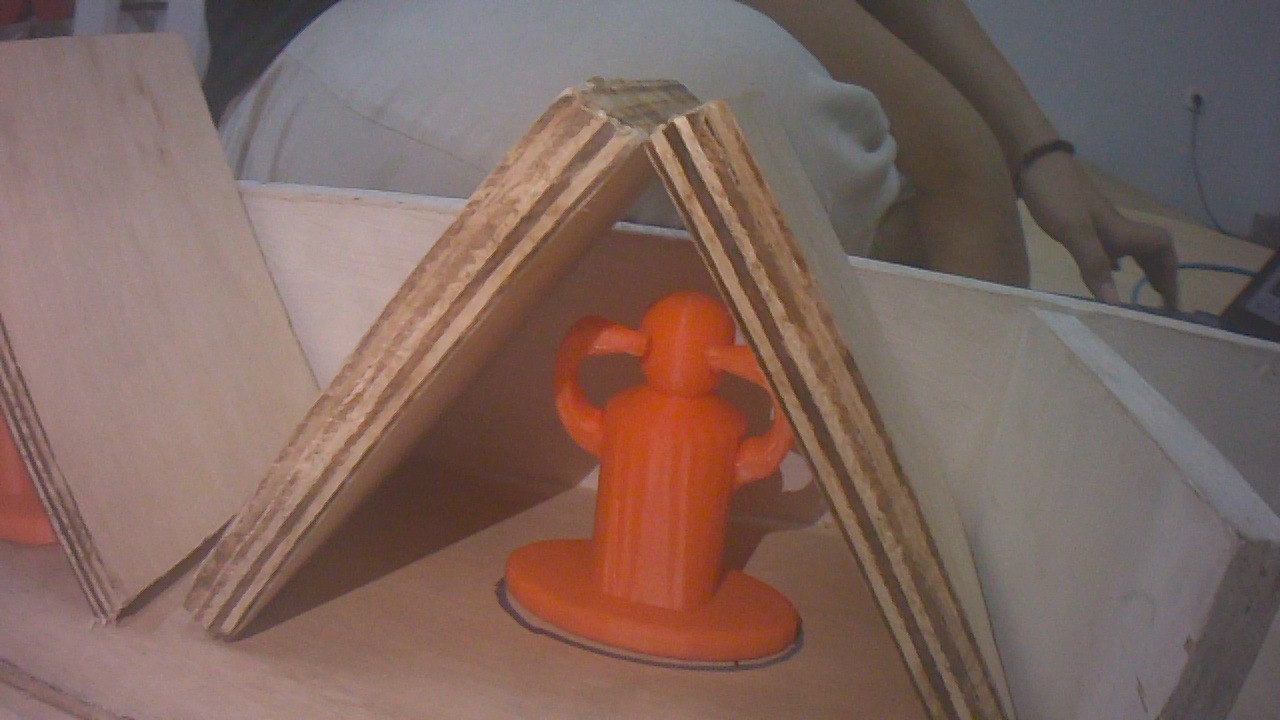real: (504, 276, 799, 670)
